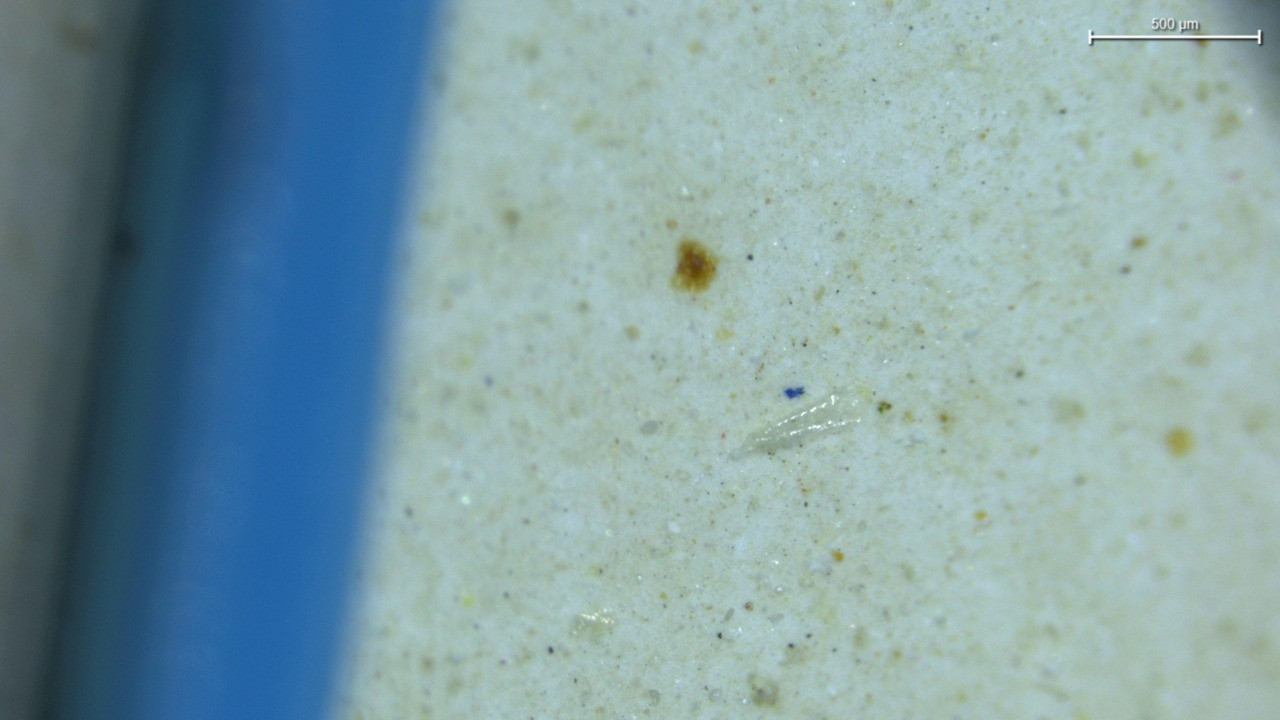microplastic_fragment: (731, 393, 867, 458)
